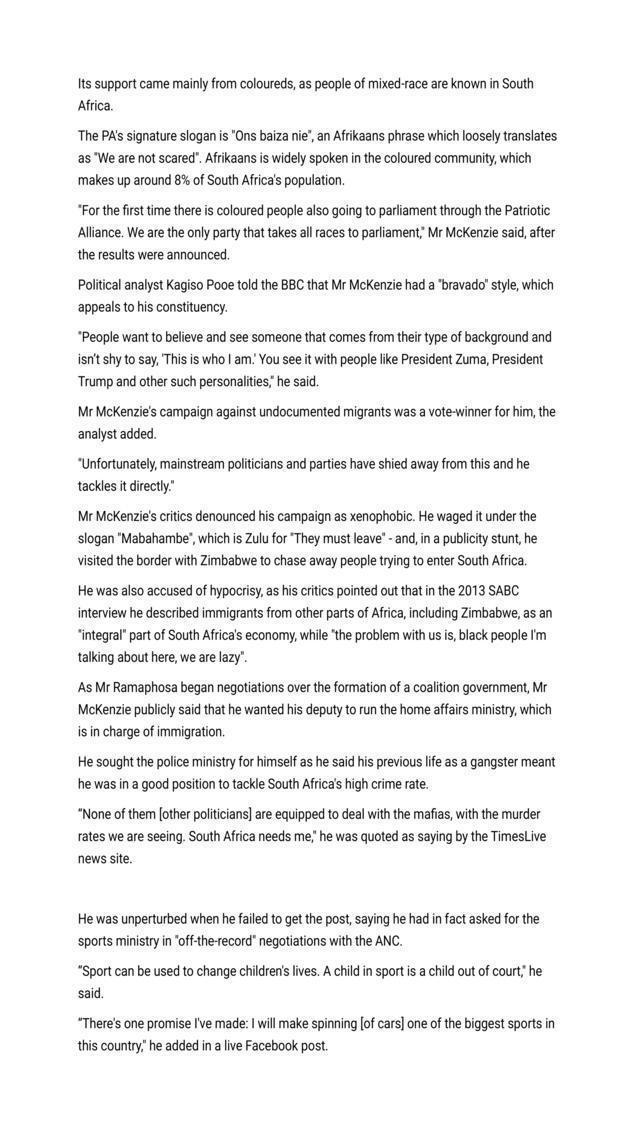Text: (72, 274, 562, 296), (71, 224, 558, 246), (73, 958, 547, 980), (73, 401, 563, 422), (70, 199, 554, 220), (73, 675, 554, 696), (74, 350, 553, 371), (72, 826, 550, 847), (71, 124, 564, 144), (71, 1013, 564, 1033), (74, 750, 563, 770), (74, 452, 538, 473), (71, 326, 558, 346), (75, 603, 558, 623), (74, 699, 556, 719), (76, 626, 554, 646), (73, 910, 546, 930), (73, 802, 546, 822), (70, 148, 540, 168), (76, 508, 544, 528), (72, 73, 539, 92), (75, 552, 531, 571), (76, 531, 544, 549), (72, 774, 436, 794), (76, 582, 526, 598), (73, 933, 413, 951), (70, 170, 351, 190), (75, 372, 326, 393), (73, 1037, 334, 1057), (75, 647, 252, 668), (72, 298, 236, 320), (72, 247, 238, 266), (75, 722, 226, 742), (75, 476, 178, 498), (73, 425, 157, 445), (71, 850, 136, 869), (72, 97, 118, 115), (75, 986, 105, 1004)
